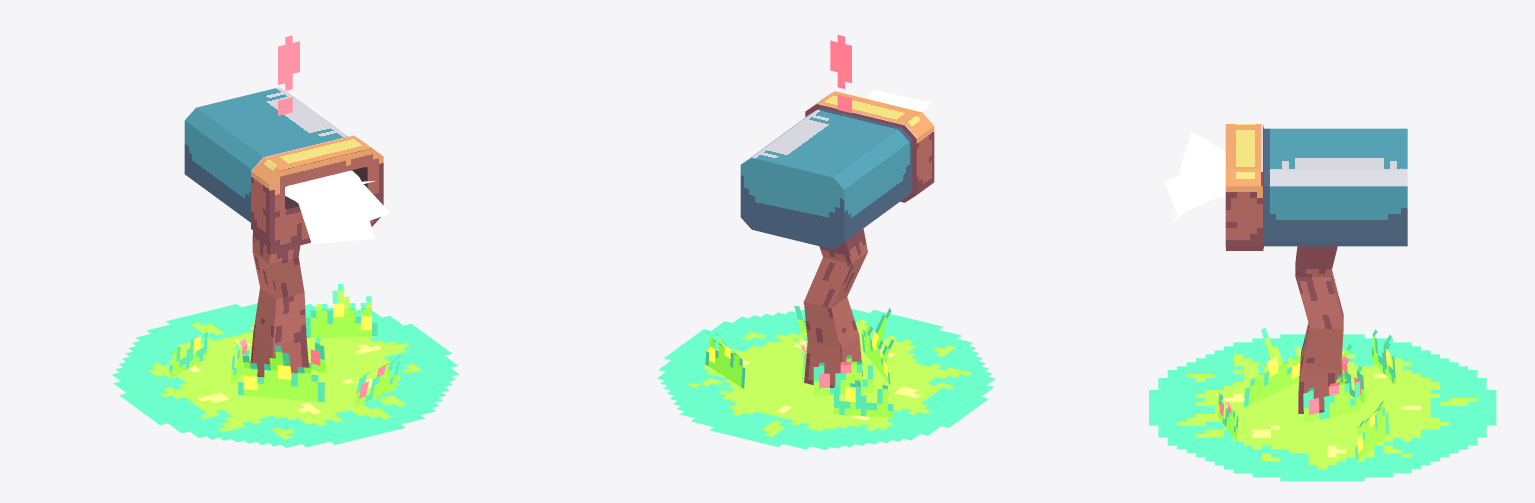
Rendered from mailbox.glb.
3 views of the same model, side by side, from view 1: azimuth 30°, elevation 25°; view 2: azimuth 150°, elevation 25°; view 3: azimuth 270°, elevation 25° (orthographic). The views are drawn at different scales.
Visible parts, largest first — view 1: Ground_0, Mailbox_1, Mail_2, Icon_3; view 2: Ground_0, Mailbox_1, Icon_3, Mail_2; view 3: Ground_0, Mailbox_1, Mail_2.
Boxes of the visible parts, box(x1,y1,x2,y2) form: Ground_0: box(112, 284, 459, 447); Mailbox_1: box(184, 87, 383, 377); Mail_2: box(285, 170, 390, 243); Icon_3: box(278, 35, 299, 115); Ground_0: box(657, 289, 995, 449); Mailbox_1: box(740, 91, 934, 387); Icon_3: box(830, 35, 851, 113); Mail_2: box(866, 90, 931, 112); Ground_0: box(1149, 327, 1496, 481); Mailbox_1: box(1225, 124, 1407, 413); Mail_2: box(1164, 131, 1225, 223).
Size of the model in its own units: 4 by 4.05 by 4.
Materials: 2 (2 with a texture image).
